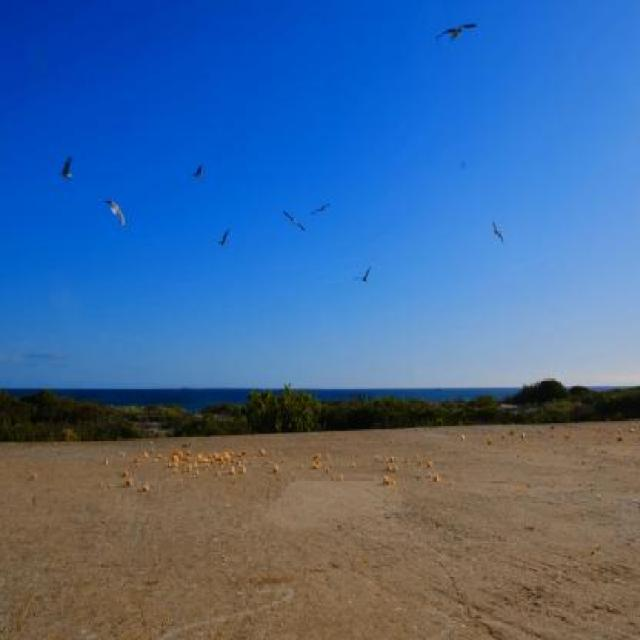bird: (435, 16, 477, 49), (102, 193, 127, 232), (280, 206, 308, 237), (57, 153, 75, 184), (489, 216, 506, 247), (212, 224, 230, 251), (354, 262, 372, 286), (314, 198, 332, 217), (191, 162, 204, 180)
